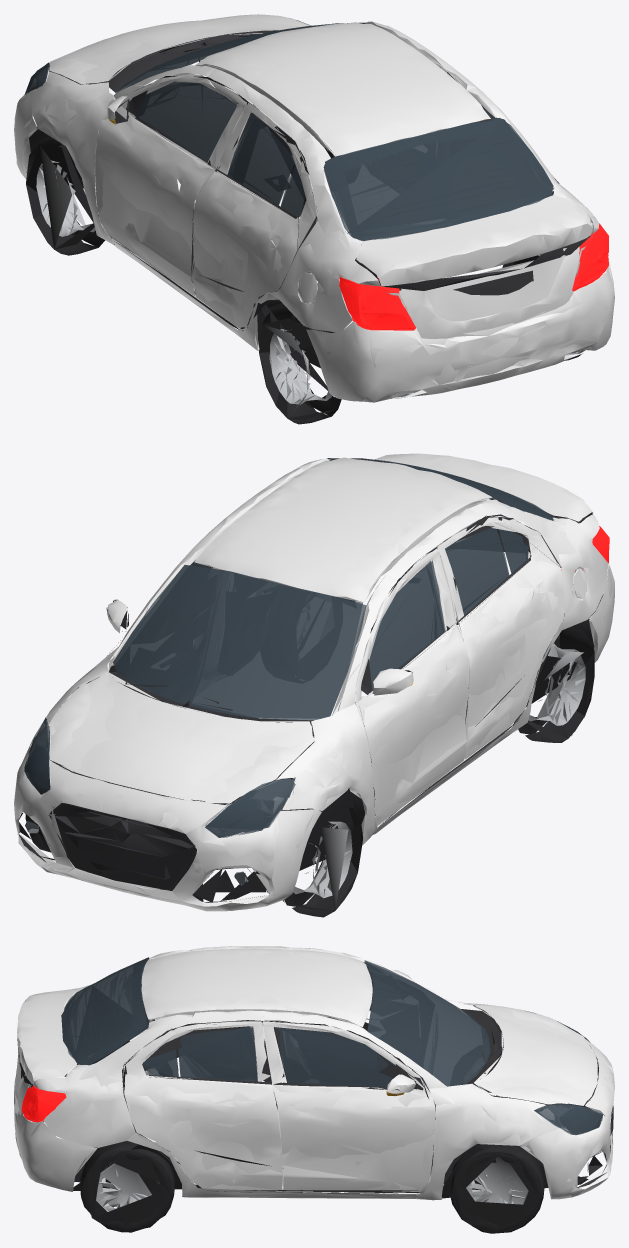
File: dzire.glb
The picture shows the model from 3 angles, top to bottom: view 1: azimuth 30°, elevation 25°; view 2: azimuth 150°, elevation 25°; view 3: azimuth 270°, elevation 25°; orthographic projection. The views are drawn at different scales.
Visible parts, largest first — view 1: lod0_shell, lod1_shell, wheel_rl, wheel_fl; view 2: lod0_shell, lod1_shell, wheel_rl, wheel_fl; view 3: lod0_shell, lod1_shell, wheel_rr, wheel_fr.
Part boxes in pixels (x1,y1,x2,y2): lod0_shell: [14, 14, 614, 402]; lod1_shell: [14, 14, 613, 420]; wheel_rl: [259, 306, 341, 424]; wheel_fl: [26, 137, 104, 255]; lod0_shell: [14, 453, 614, 911]; lod1_shell: [15, 457, 612, 910]; wheel_rl: [518, 627, 594, 742]; wheel_fl: [283, 804, 362, 917]; lod0_shell: [14, 946, 614, 1200]; lod1_shell: [14, 947, 613, 1231]; wheel_rr: [80, 1141, 174, 1232]; wheel_fr: [450, 1144, 544, 1233].
Size of the model in its own units: 1.84 by 1.51 by 3.99.
